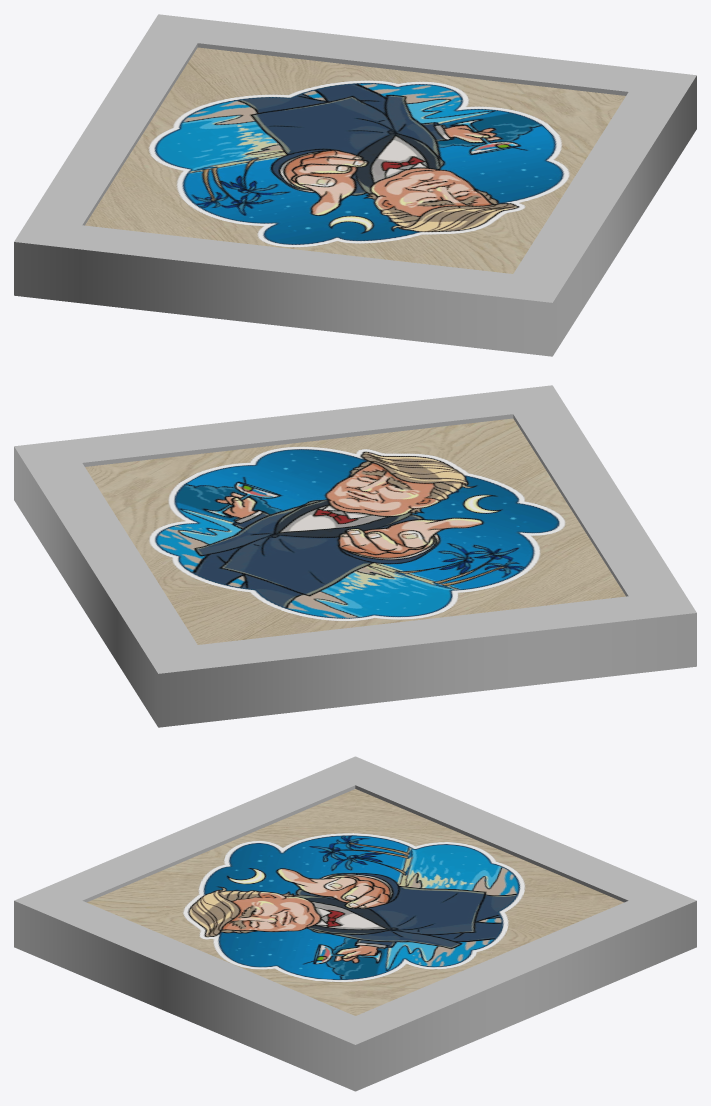
File: Puzzle_38.FBX
3 views of the same model, one above another, from view 1: azimuth 30°, elevation 25°; view 2: azimuth 150°, elevation 25°; view 3: azimuth 270°, elevation 25° (orthographic). The views are drawn at different scales.
Visible parts, largest first — view 1: Wood, 040, 037, 038, 034, 039, 10, 042, 035, 036, 041; view 2: Wood, 040, 038, 037, 034, 039, 10, 042, 035, 036, 041; view 3: Wood, 040, 037, 038, 034, 039, 10, 042, 035, 041, 036.
Boxes of the visible parts, x1,y1,x2,y2 form: Wood: (14, 14, 696, 356); 040: (200, 158, 568, 273); 037: (140, 47, 453, 148); 038: (308, 60, 625, 185); 034: (290, 129, 531, 218); 039: (277, 101, 491, 179); 10: (112, 121, 248, 212); 042: (151, 179, 366, 236); 035: (219, 105, 315, 195); 036: (292, 180, 431, 234); 041: (85, 183, 256, 238); Wood: (14, 385, 696, 727); 040: (258, 418, 599, 555); 038: (85, 443, 296, 601); 037: (170, 528, 400, 644); 034: (219, 460, 431, 549); 039: (181, 488, 423, 591); 10: (342, 567, 557, 621); 042: (421, 493, 560, 583); 035: (277, 550, 491, 591); 036: (395, 477, 497, 547); 041: (525, 539, 625, 607); Wood: (14, 756, 696, 1091); 040: (87, 817, 288, 962); 037: (421, 846, 623, 962); 038: (229, 933, 549, 1015); 034: (222, 876, 355, 962); 039: (289, 875, 491, 962); 10: (355, 818, 491, 876); 042: (222, 818, 355, 876); 035: (355, 846, 491, 904); 041: (288, 789, 424, 845); 036: (222, 876, 351, 904).
Size of the model in its own units: 4.26 by 0.3439 by 4.26.
